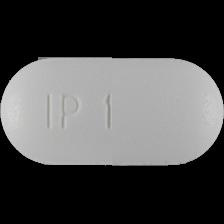33261-372: (0, 0, 224, 224)
